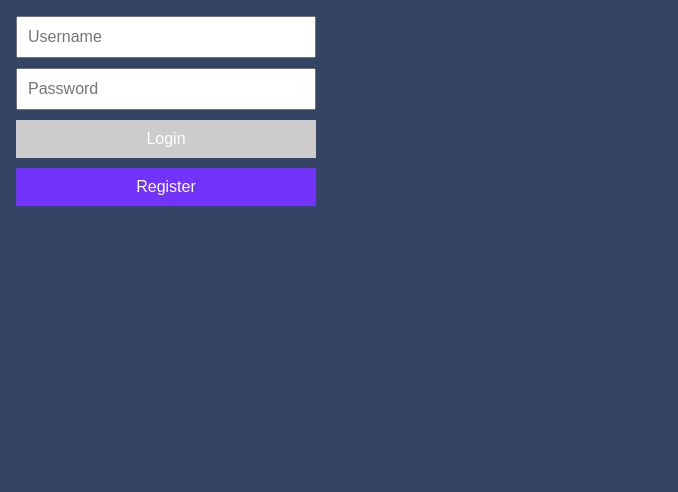
Login component › displays error message for invalid credentials
Type "testUser@gmail.com" into the field with placeholder "Username" at [166, 37], box [16,16,316,58]
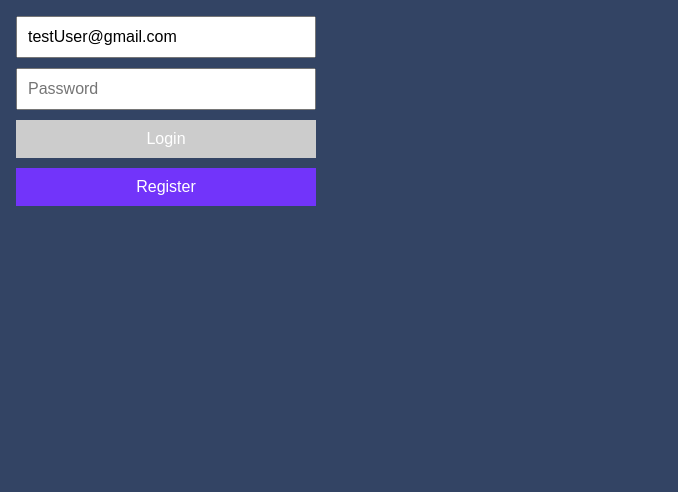
Type "test@Password" into the password field with placeholder "Password" at [166, 89], box [16,68,316,110]
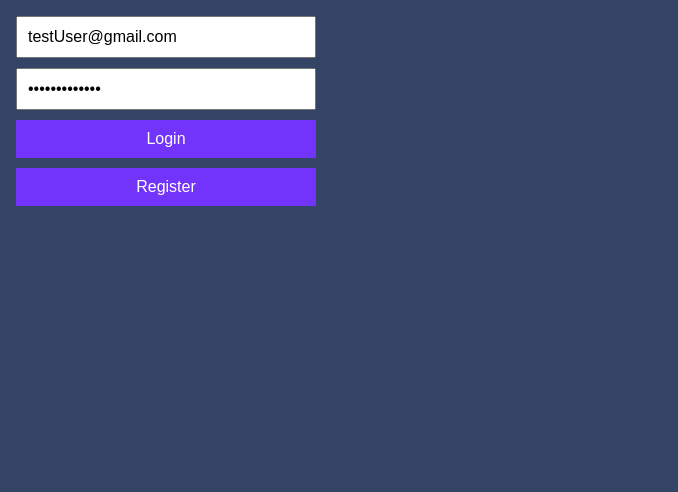
Click the button "Login" at [166, 139], box [16,120,316,158]
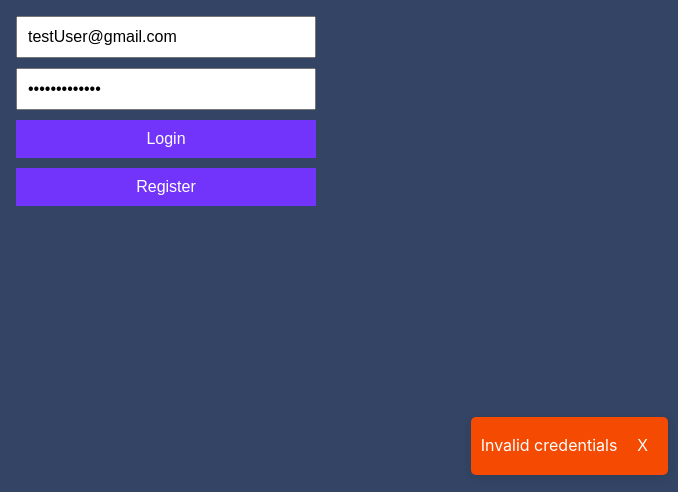
Expected: the text "Invalid credentials" is shown, [481,435,617,455]
